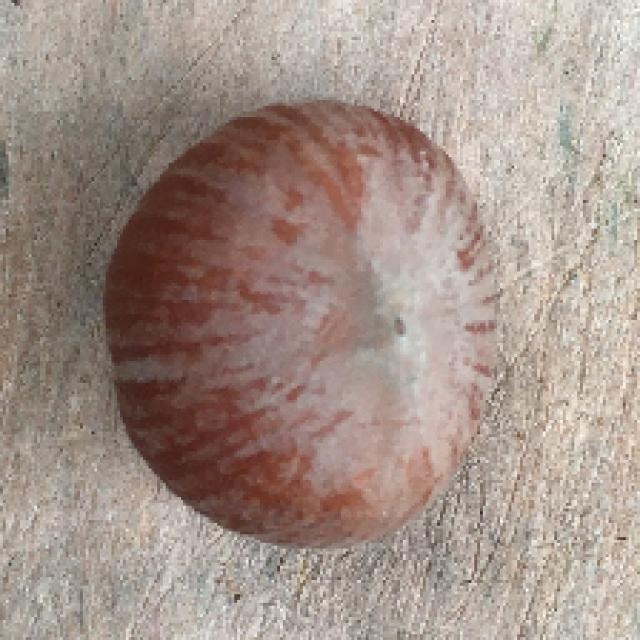qualityHazelnut: (97, 95, 508, 552)
